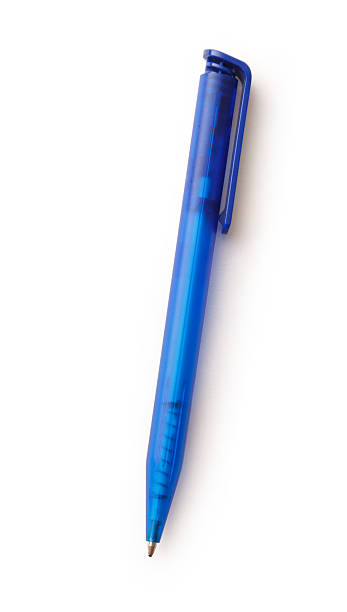pen: (132, 39, 267, 566)
